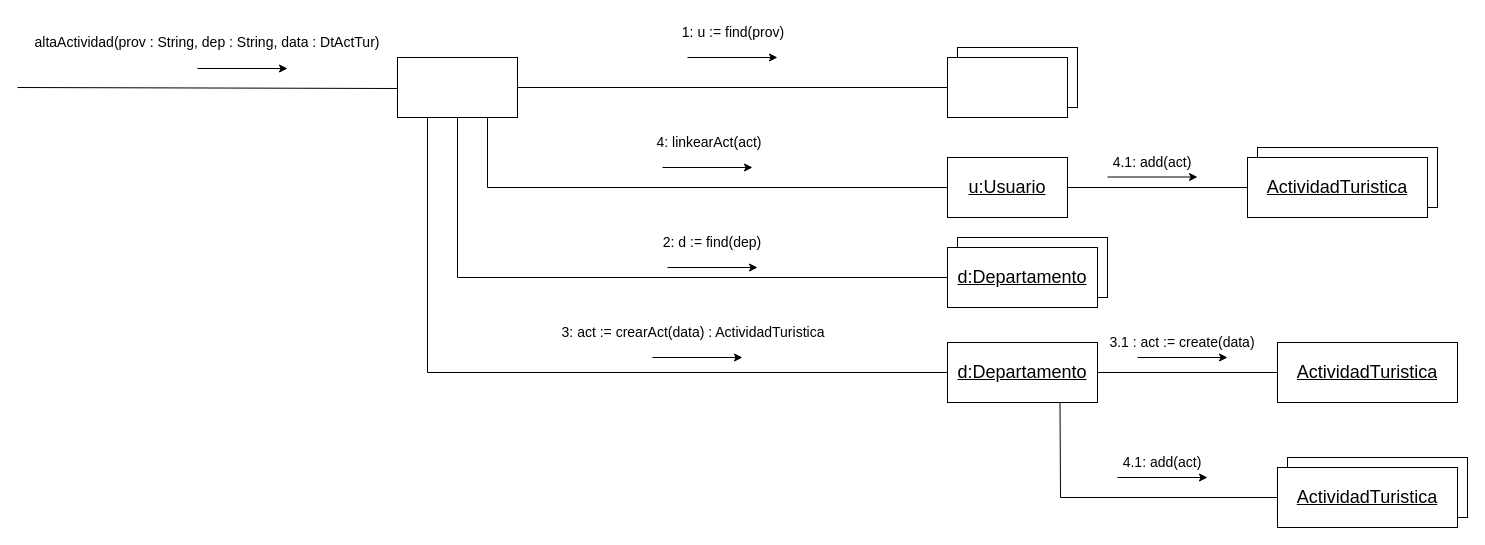
Some shapes in this 1485 by 545 pixel diagram are drawn without their labels. Here are the shapes that lost their labels. From the top down, the centre of each, then its label:
the point at 457,87: :Sistema
the point at 1007,87: :Usuario
